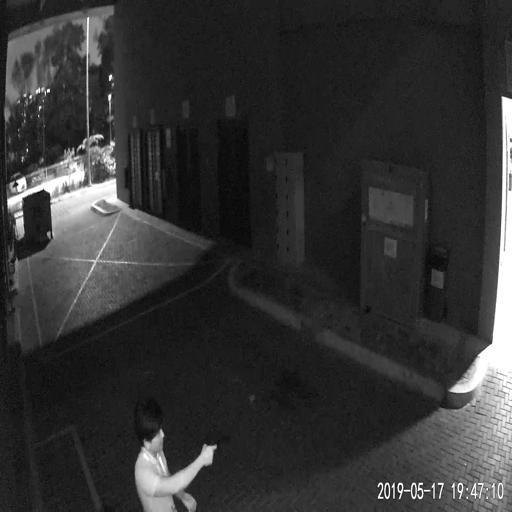Handgun: (202, 432, 229, 463)
